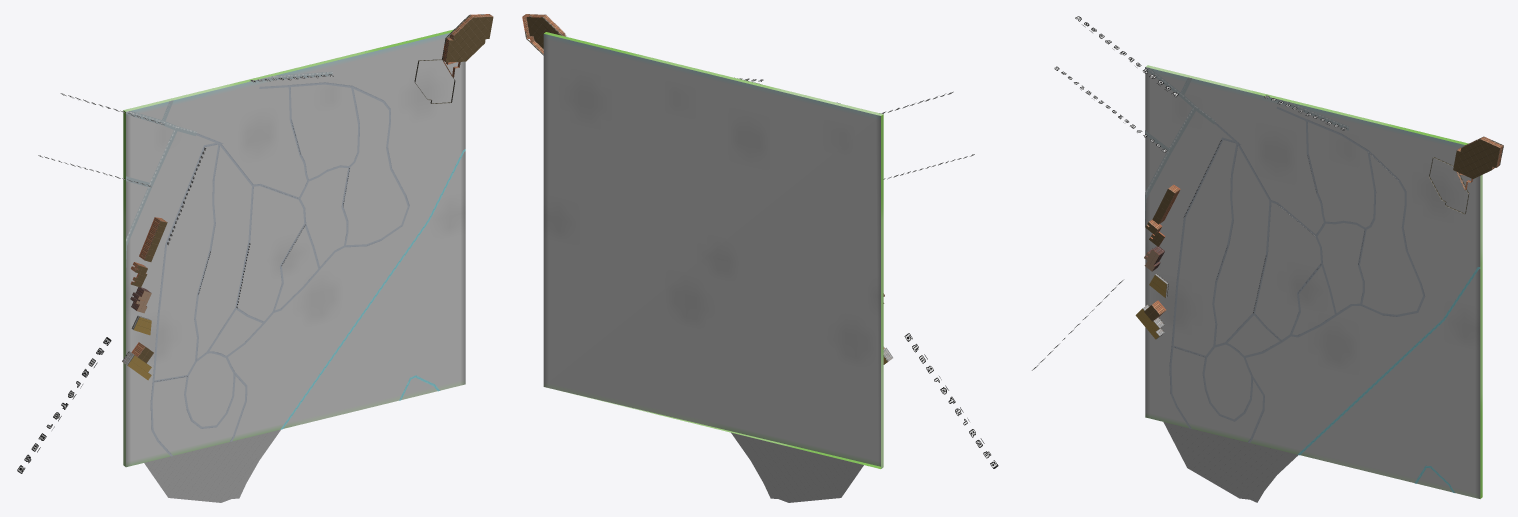
3 renders of one model, left to right at view 1: azimuth 30°, elevation 25°; view 2: azimuth 150°, elevation 25°; view 3: azimuth 330°, elevation 25°, orthographic.
Visible parts, largest first — view 1: POLYGON, POLYLINE, BUILDING, FONT; view 2: POLYGON, BUILDING, FONT; view 3: POLYGON, POLYLINE, BUILDING, FONT.
Boxes of the visible parts, x1,y1,x2,y2 form: POLYGON: (123,29,465,502); POLYLINE: (126,71,465,456); BUILDING: (122,14,493,380); FONT: (17,16,469,473); POLYGON: (543,32,883,502); BUILDING: (522,14,892,364); FONT: (545,17,998,468); POLYGON: (1145,65,1482,502); POLYLINE: (1145,67,1480,492); BUILDING: (1135,136,1503,339); FONT: (1032,16,1398,370).
Bounding box in the file's own units: 855 × 776 × 29.
Materials: 3 (3 with a texture image).
